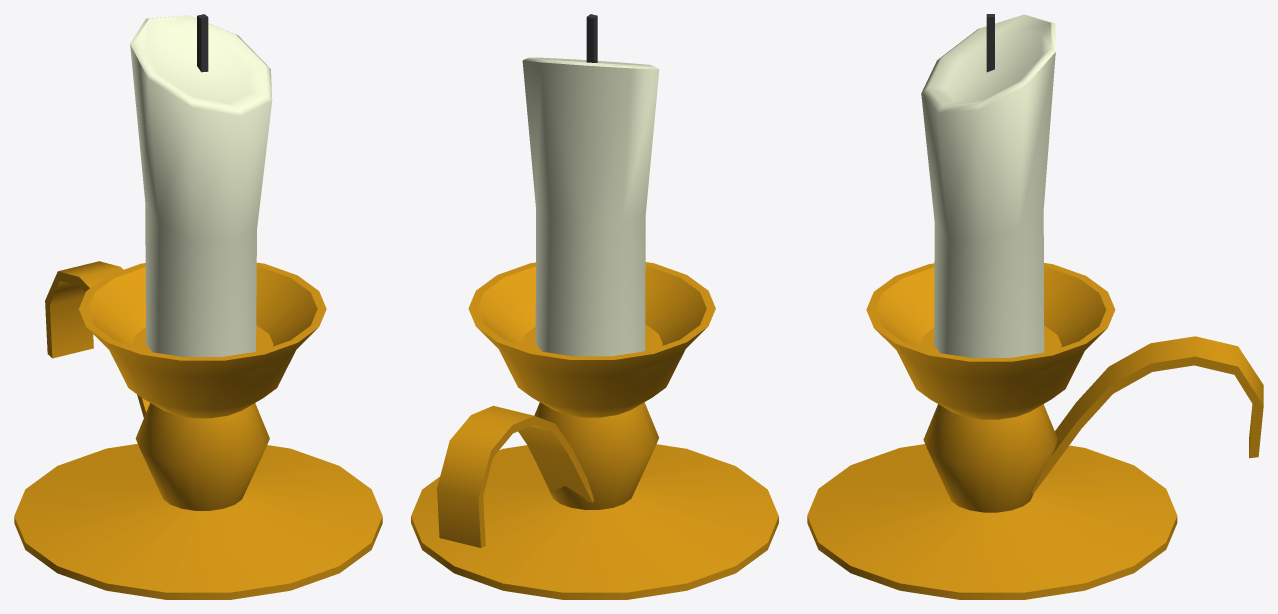
Rendered from Candle.fbx.
3 views of the same model, side by side, from view 1: azimuth 30°, elevation 25°; view 2: azimuth 150°, elevation 25°; view 3: azimuth 270°, elevation 25° (orthographic).
Visible parts, largest first — view 1: Candle; view 2: Candle; view 3: Candle.
Boxes of the visible parts, x1,y1,x2,y2 form: Candle: (14, 14, 382, 599); Candle: (411, 14, 778, 599); Candle: (807, 14, 1263, 599).
Size of the model in its own units: 0.2453 by 0.3779 by 0.3072.
